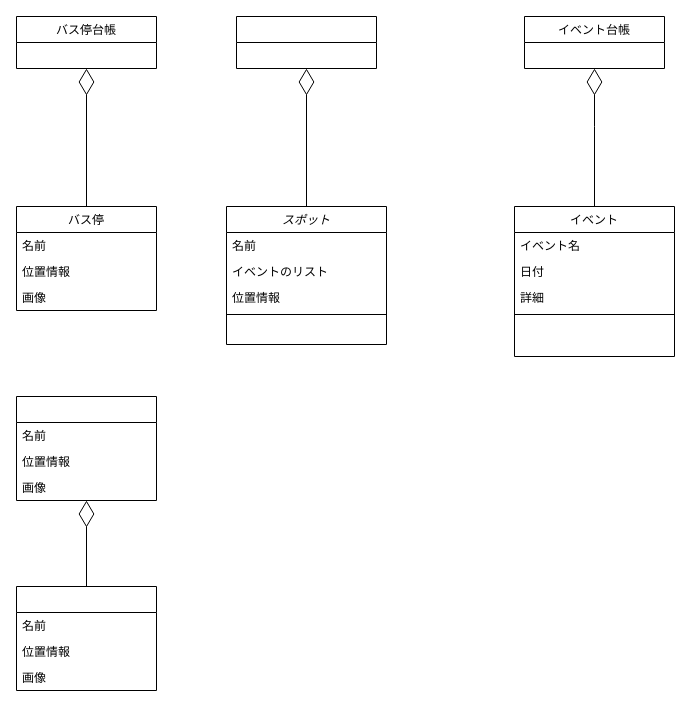
Some shapes in this 691 by 707 pixel diagram are drawn without their labels. The shapes that lost their labels are listed below. From the top down, each one's box as (x1, y1, x2, y2) in pixels, then its label:
(236, 16, 376, 68): スポット台帳
(16, 396, 156, 500): エンドポイント情報台帳
(16, 586, 156, 690): エンドポイント情報
